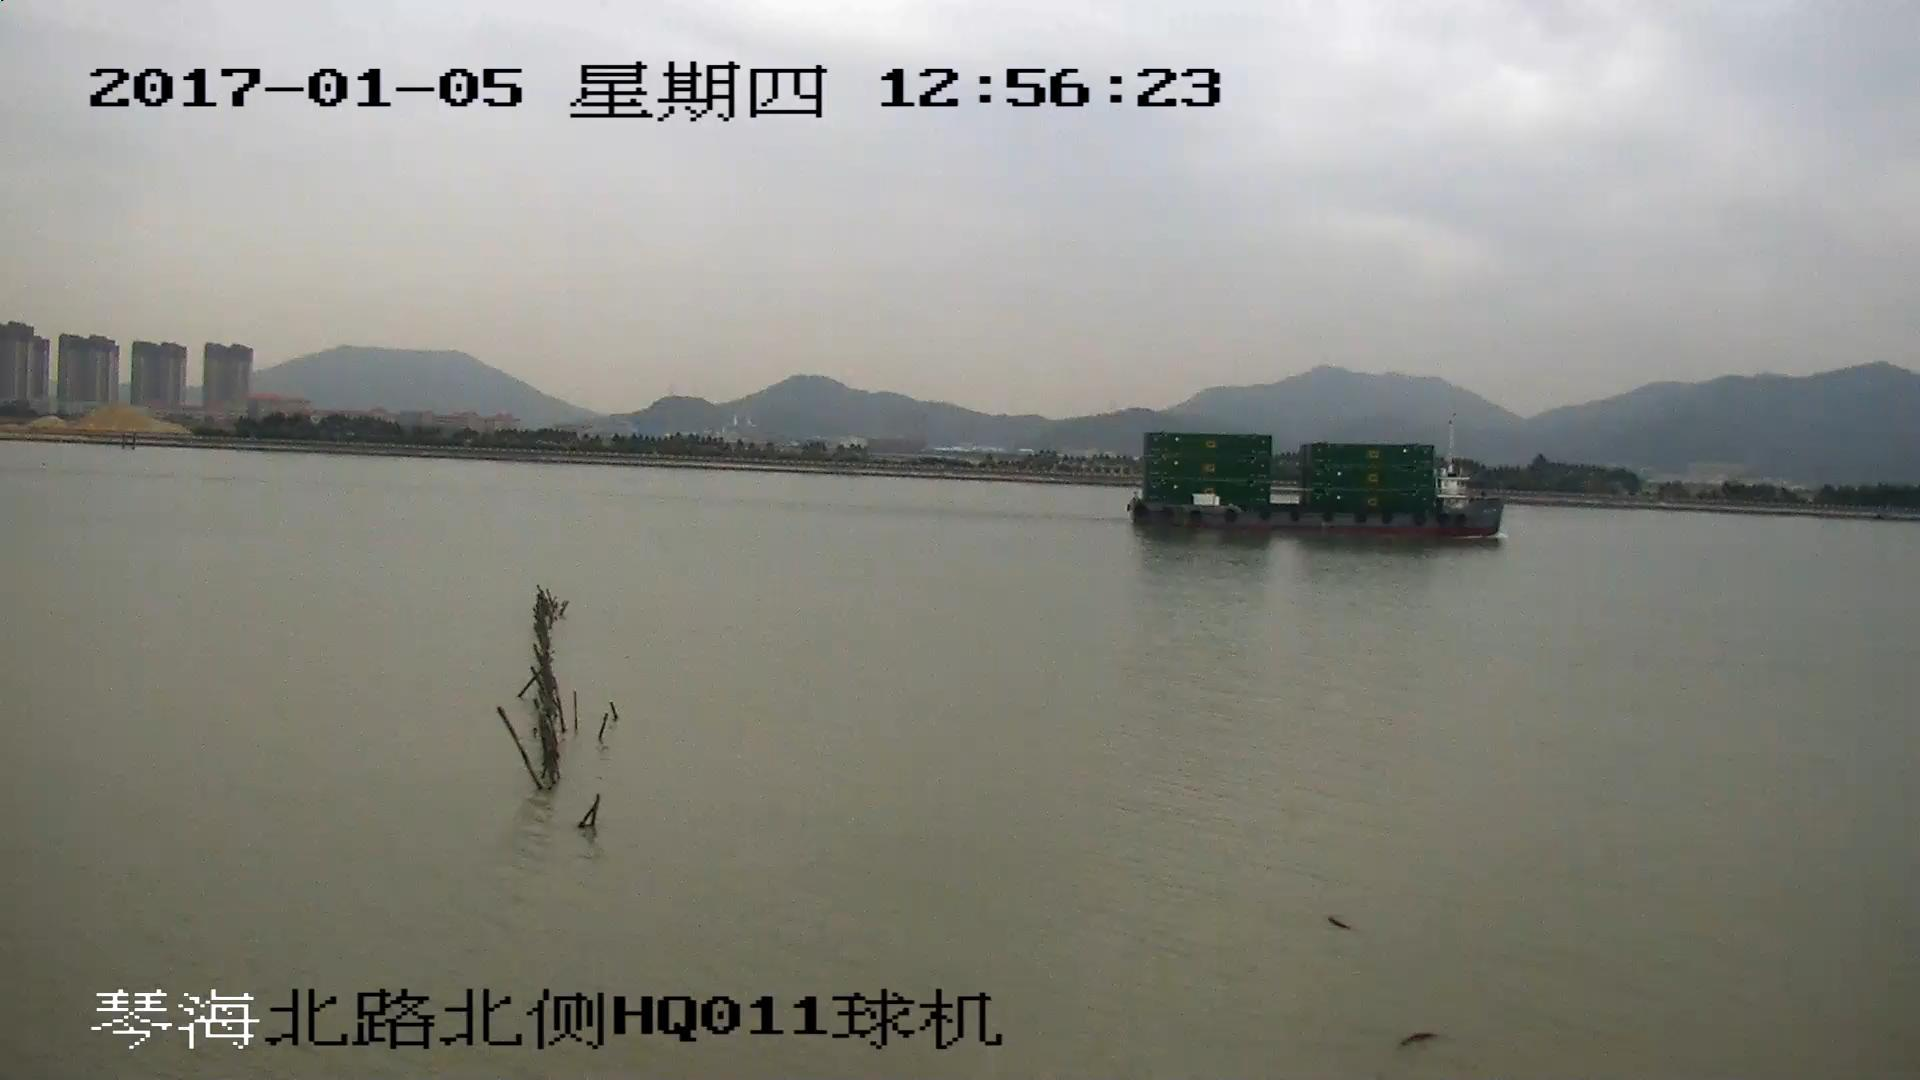Ship: (1127, 433, 1507, 543)
